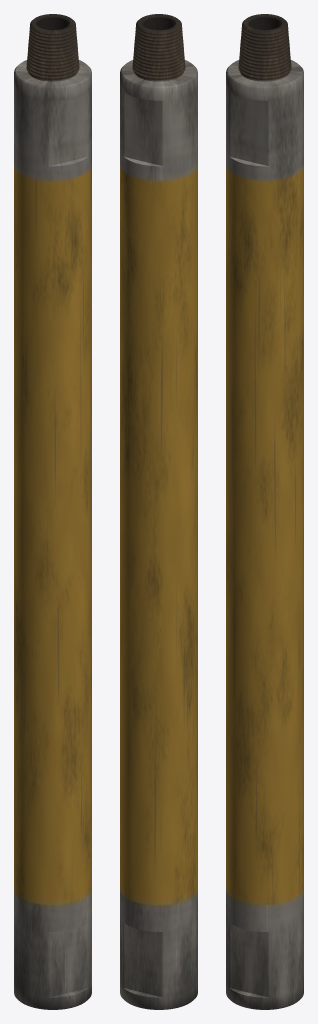
Rendered from SM_Tige_5_1_2po_6pi_Jaune.glb.
The picture shows the model from 3 angles, left to right: view 1: azimuth 30°, elevation 25°; view 2: azimuth 150°, elevation 25°; view 3: azimuth 330°, elevation 25°; orthographic projection.
Visible parts, largest first — view 1: Tige_5_1_2po_6pi_Jaune; view 2: Tige_5_1_2po_6pi_Jaune; view 3: Tige_5_1_2po_6pi_Jaune.
Boxes of the visible parts, x1,y1,x2,y2 form: Tige_5_1_2po_6pi_Jaune: [14, 14, 91, 1009]; Tige_5_1_2po_6pi_Jaune: [120, 14, 197, 1009]; Tige_5_1_2po_6pi_Jaune: [226, 14, 303, 1009].
Bounding box in the file's own units: 0.1397 × 1.92 × 0.1397.
Materials: 1 (1 with a texture image).
